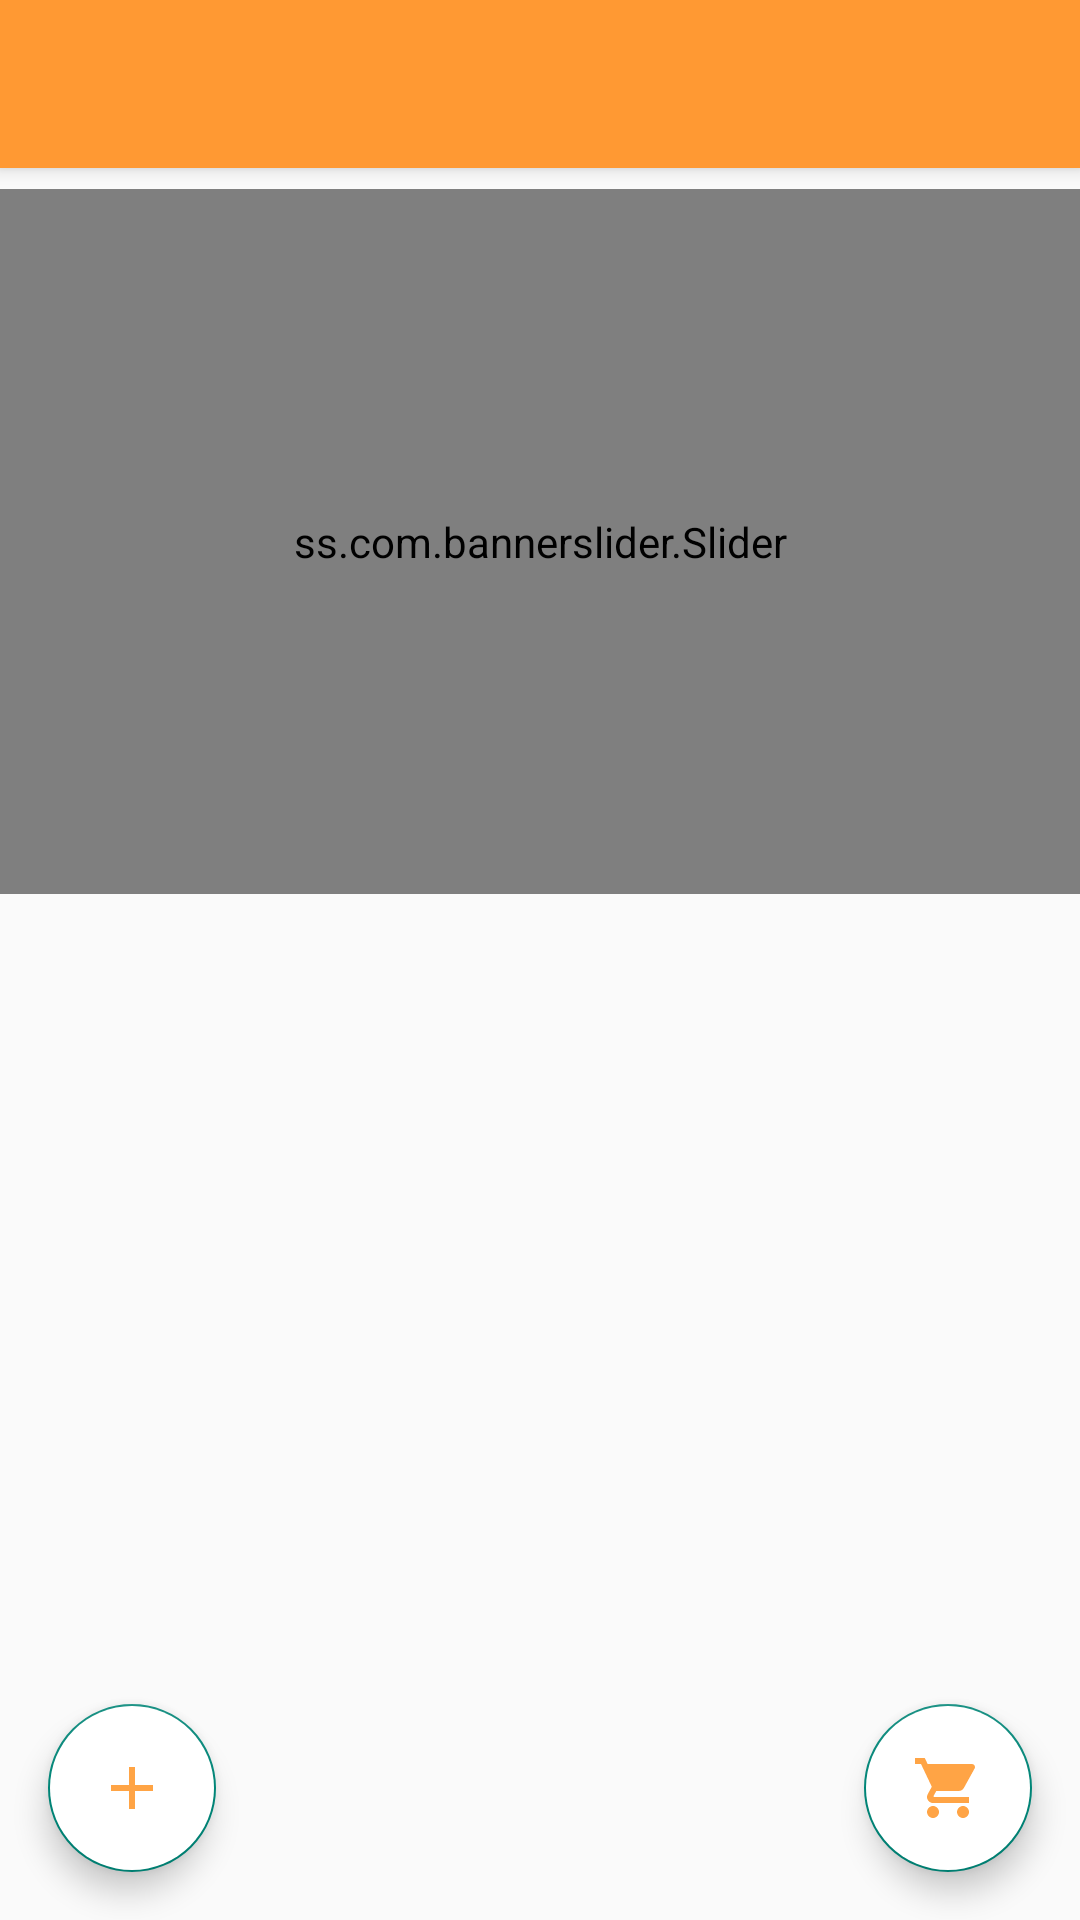

Icon bounding boxes for this 1080w x 1920h phone screenshot, format (x1, y1, x2, y2):
add: (48, 1704, 216, 1872)
shopping cart: (864, 1704, 1032, 1872)
